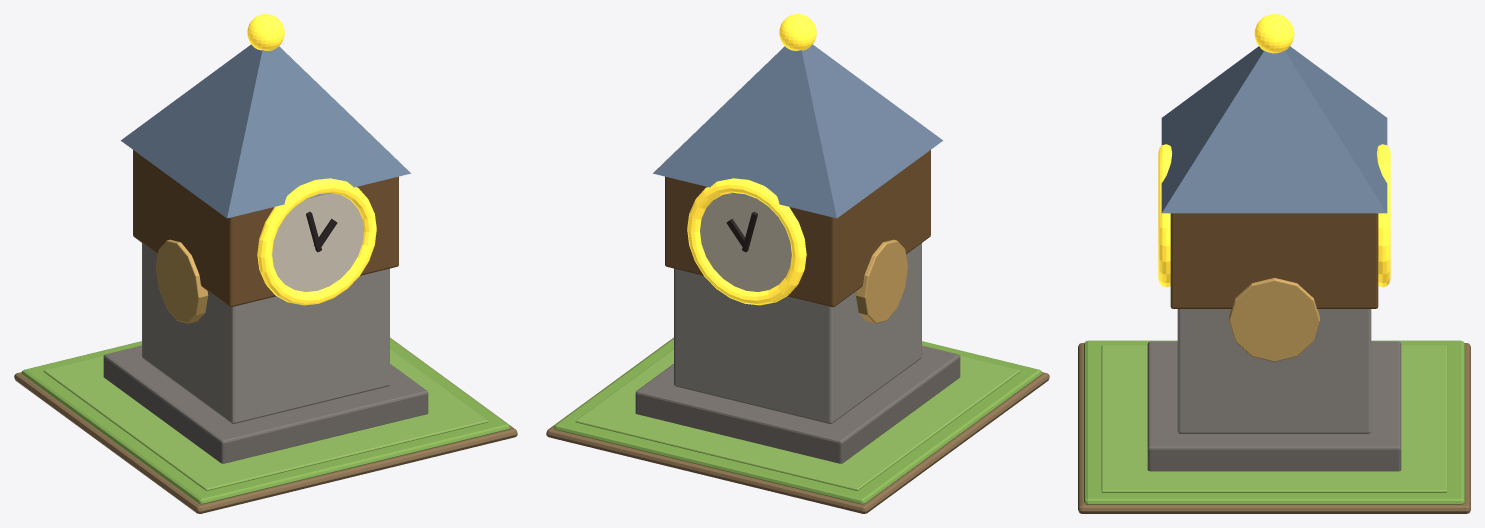
The model's file is clock_tower_lv3.glb.
3 renders of one model, left to right at view 1: azimuth 30°, elevation 25°; view 2: azimuth 150°, elevation 25°; view 3: azimuth 270°, elevation 25°, orthographic. The views are drawn at different scales.
Visible parts, largest first — view 1: CT_SpireRoof, CT_LowerShaft, Base_Inner, CT_Plinth, CT_UpperHousing, Base_Grass, ClockDial_-1, Base_Dirt, ClockBezel_-1, CT_SideGear_-1, CT_ApexOrb; view 2: CT_SpireRoof, CT_LowerShaft, Base_Inner, CT_Plinth, CT_UpperHousing, Base_Grass, ClockDial_1, Base_Dirt, ClockBezel_1, CT_SideGear_-1, CT_ApexOrb; view 3: CT_SpireRoof, CT_LowerShaft, Base_Inner, CT_UpperHousing, CT_Plinth, Base_Grass, CT_SideGear_1, Base_Dirt, ClockBezel_1, ClockBezel_-1, CT_ApexOrb.
Part boxes in pixels (bbox=[...]): CT_SpireRoof: bbox=[121, 44, 410, 218]; CT_LowerShaft: bbox=[142, 243, 389, 423]; Base_Inner: bbox=[43, 349, 488, 490]; CT_Plinth: bbox=[103, 345, 428, 463]; CT_UpperHousing: bbox=[133, 150, 398, 307]; Base_Grass: bbox=[21, 338, 510, 504]; ClockDial_-1: bbox=[272, 193, 363, 291]; Base_Dirt: bbox=[14, 337, 517, 513]; ClockBezel_-1: bbox=[257, 178, 376, 305]; CT_SideGear_-1: bbox=[156, 239, 208, 323]; CT_ApexOrb: bbox=[247, 14, 284, 50]; CT_SpireRoof: bbox=[653, 44, 942, 218]; CT_LowerShaft: bbox=[674, 243, 921, 423]; Base_Inner: bbox=[575, 349, 1020, 490]; CT_Plinth: bbox=[635, 345, 960, 463]; CT_UpperHousing: bbox=[665, 150, 930, 307]; Base_Grass: bbox=[553, 338, 1042, 504]; ClockDial_1: bbox=[700, 193, 791, 291]; Base_Dirt: bbox=[546, 337, 1049, 513]; ClockBezel_1: bbox=[687, 178, 806, 305]; CT_SideGear_-1: bbox=[855, 239, 907, 323]; CT_ApexOrb: bbox=[779, 14, 816, 50]; CT_SpireRoof: bbox=[1161, 46, 1387, 213]; CT_LowerShaft: bbox=[1177, 309, 1371, 433]; Base_Inner: bbox=[1101, 345, 1447, 492]; CT_UpperHousing: bbox=[1170, 213, 1378, 308]; CT_Plinth: bbox=[1147, 341, 1401, 471]; Base_Grass: bbox=[1084, 340, 1464, 504]; CT_SideGear_1: bbox=[1229, 278, 1319, 361]; Base_Dirt: bbox=[1078, 343, 1470, 513]; ClockBezel_1: bbox=[1376, 144, 1390, 287]; ClockBezel_-1: bbox=[1158, 144, 1172, 287]; CT_ApexOrb: bbox=[1254, 14, 1294, 53].
Size of the model in its own units: 2.76 by 3.23 by 2.76.
